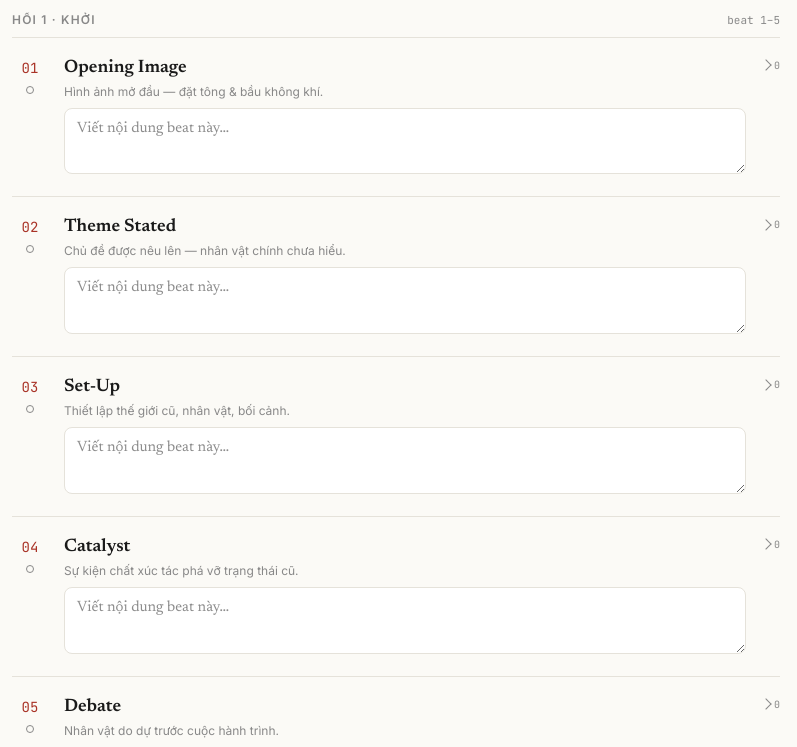
PlotContent (beat sheet Save the Cat) › beat KHÔNG có id → expand không có nút Add scene
This screenshot has width=797, height=747.
Expected: the text box named "Nội dung Theme Stated" is shown, [64,267,746,334]
Click the button with test id "expand-2" at x=771, y=223, box [762,213,780,232]
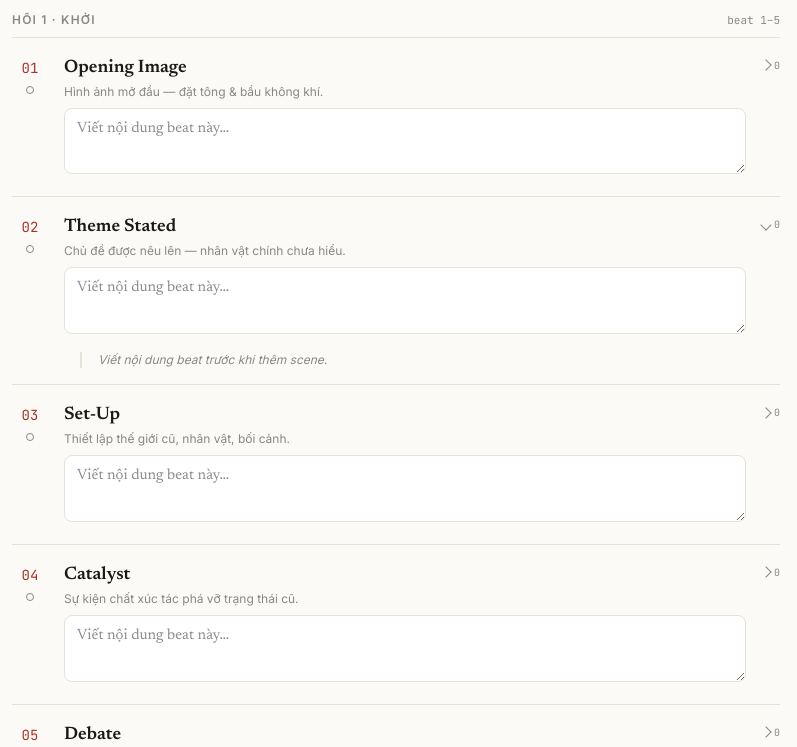
Expected: the text "Viết nội dung beat trước khi thêm scene." is shown, [98,352,327,367]
